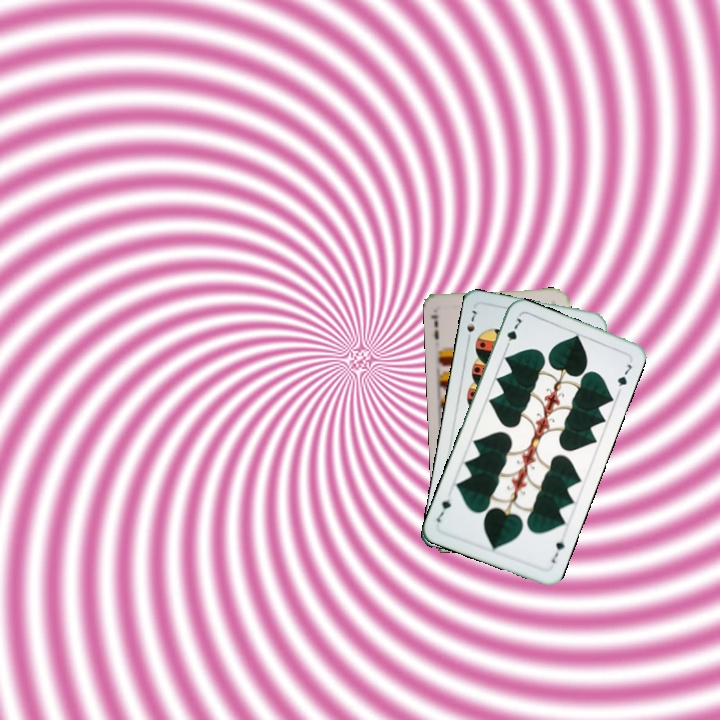E7: (426, 310, 442, 342)
G7: (502, 314, 525, 352), (547, 537, 567, 566)
S7: (462, 306, 479, 345)
